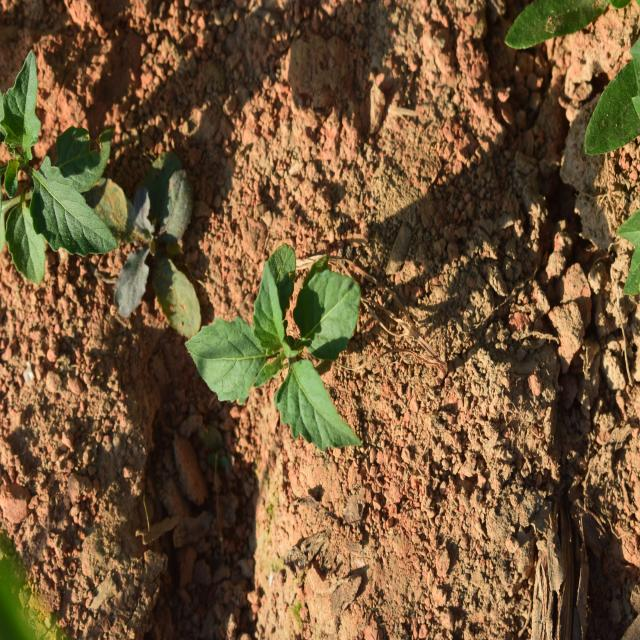Black_nightshade: (185, 246, 361, 446), (0, 62, 113, 284)
